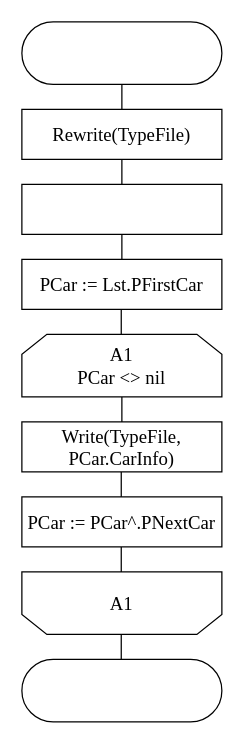
The diagram is 244 pixels wide and 744 high, and some of its shapes have lost their labels. Each missing label, with the centre of its shape:
Seek(TypeFile, 0): [121,208]
Вход WriteListToFile ( Lst , TypeFile ): [121,52]
Выход WriteListToFile ( Lst , TypeFile ): [121,690]
